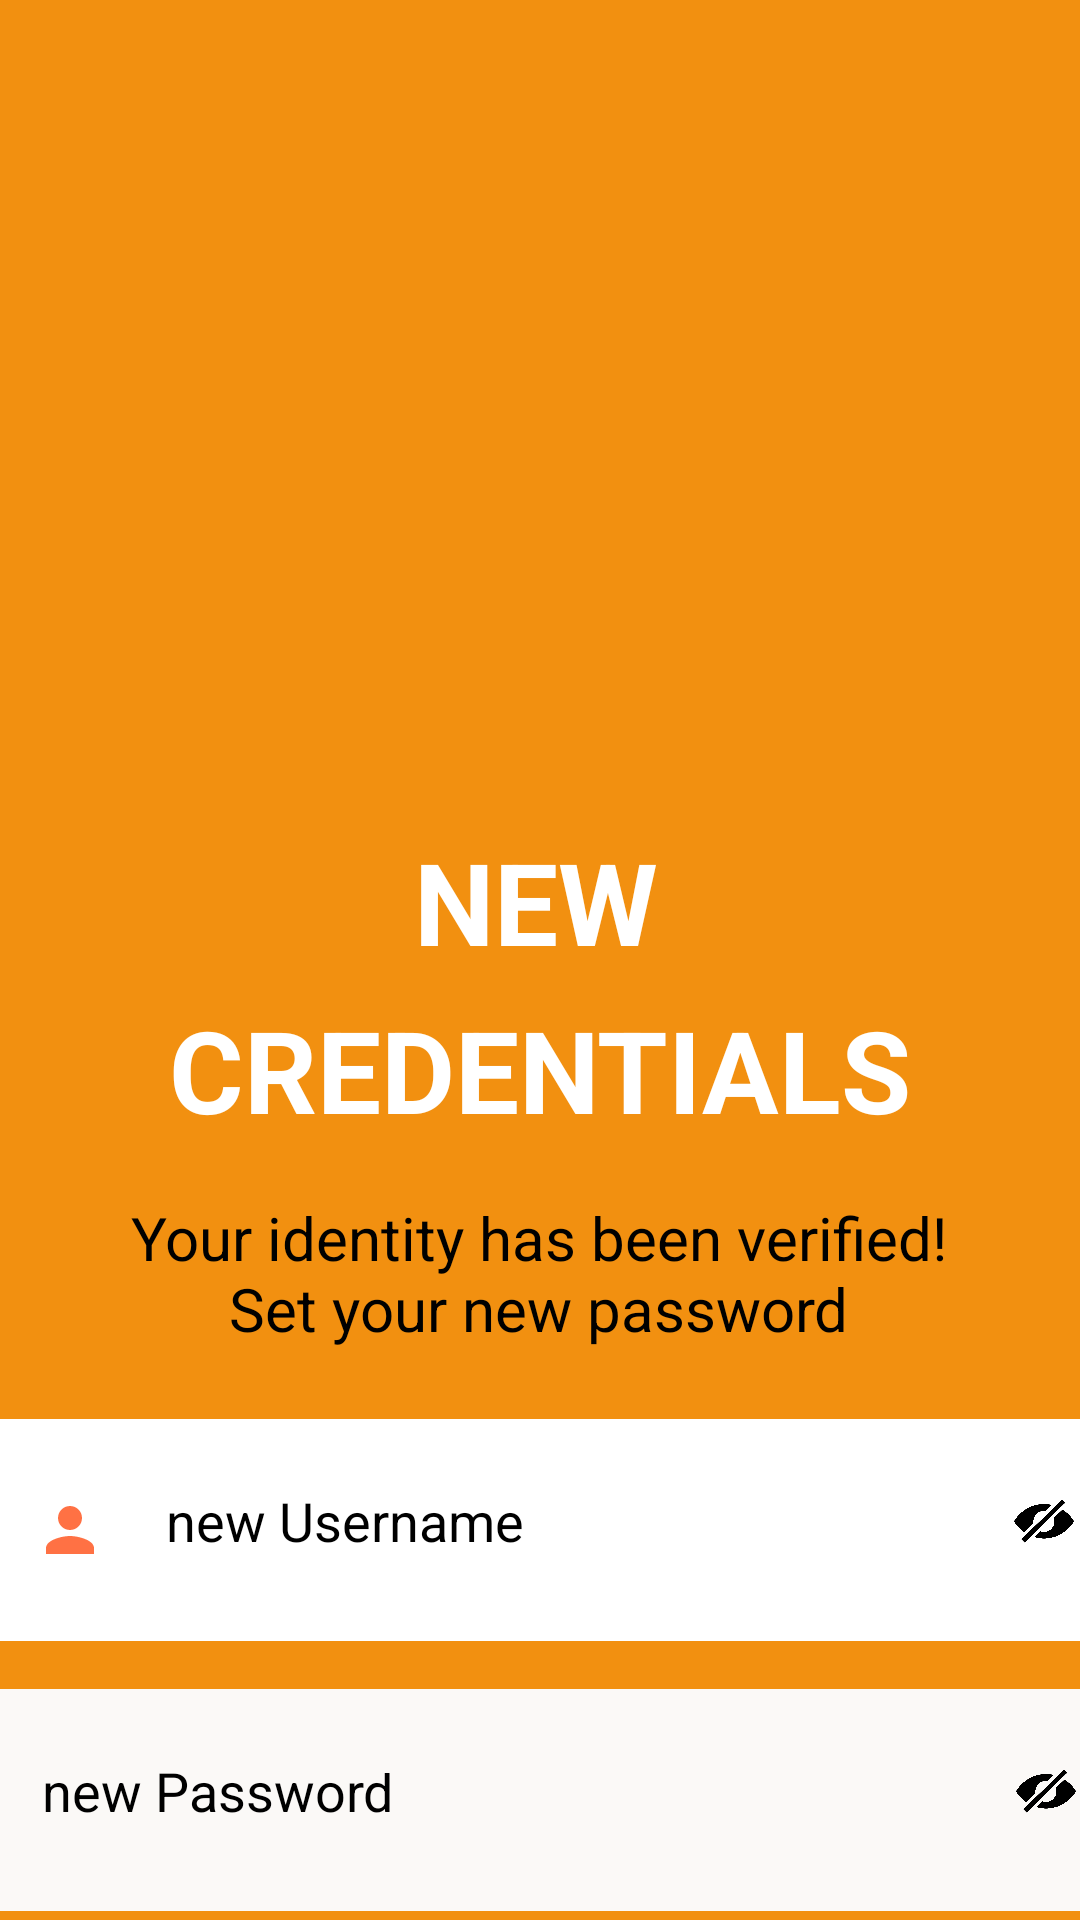

Where icons sit on this 1080*1920 app screen, as (x1, y1, x2, y2):
show password: (1014, 1500, 1074, 1543), (1016, 1770, 1076, 1813)
